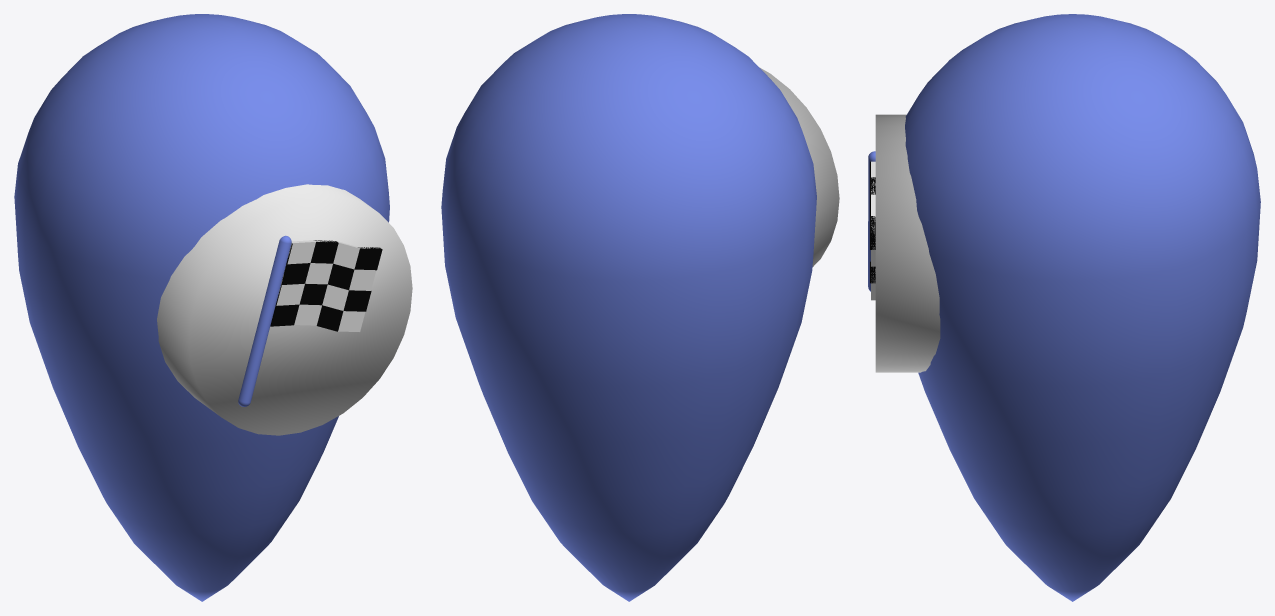
The model's file is activitiesPin.glb.
3 views of the same model, side by side, from view 1: azimuth 30°, elevation 25°; view 2: azimuth 150°, elevation 25°; view 3: azimuth 270°, elevation 25° (orthographic).
Parts seen in each view (by area): view 1: pin, Cylinder.001, Cube.035, Cube.034, Sphere.013; view 2: pin, Cylinder.001; view 3: pin, Cylinder.001.
Boxes of the visible parts, x1,y1,x2,y2 form: pin: (14, 14, 389, 601); Cylinder.001: (157, 184, 412, 435); Cube.035: (270, 240, 382, 331); Cube.034: (276, 240, 379, 331); Sphere.013: (238, 235, 291, 406); pin: (441, 14, 816, 601); Cylinder.001: (759, 67, 839, 266); pin: (905, 14, 1260, 601); Cylinder.001: (875, 114, 940, 372).
Size of the model in its own units: 0.2435 by 0.4072 by 0.2541.
